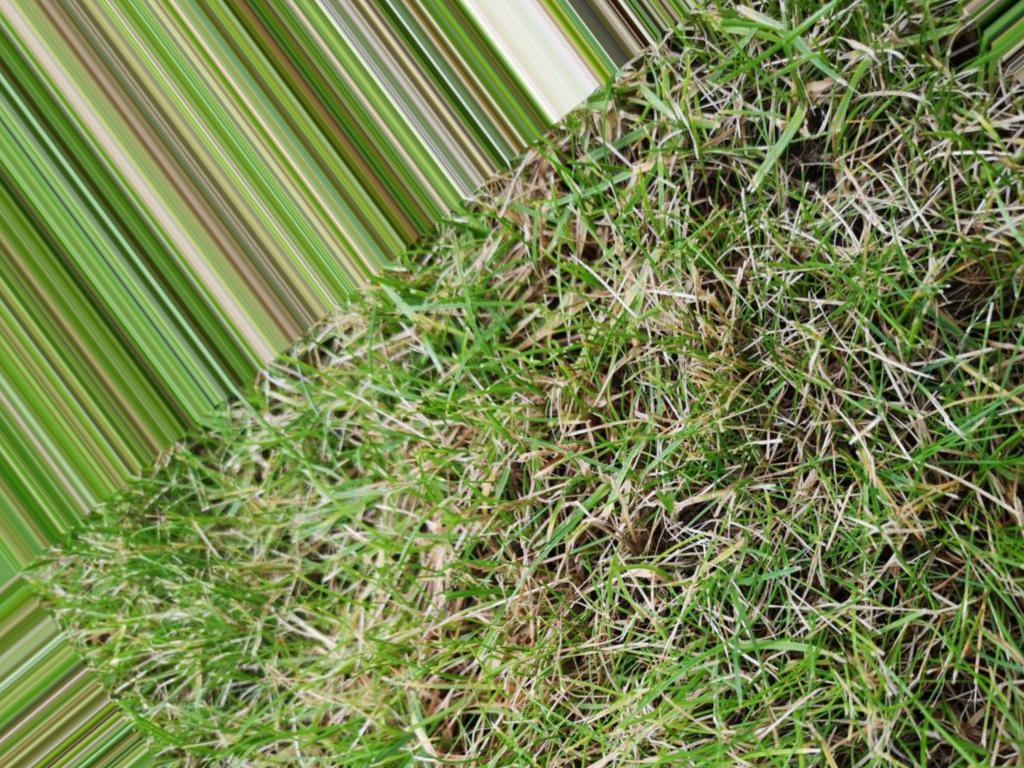patch: (228, 449, 481, 630), (352, 645, 819, 735), (544, 285, 760, 437), (514, 489, 729, 617), (824, 154, 1009, 248)
